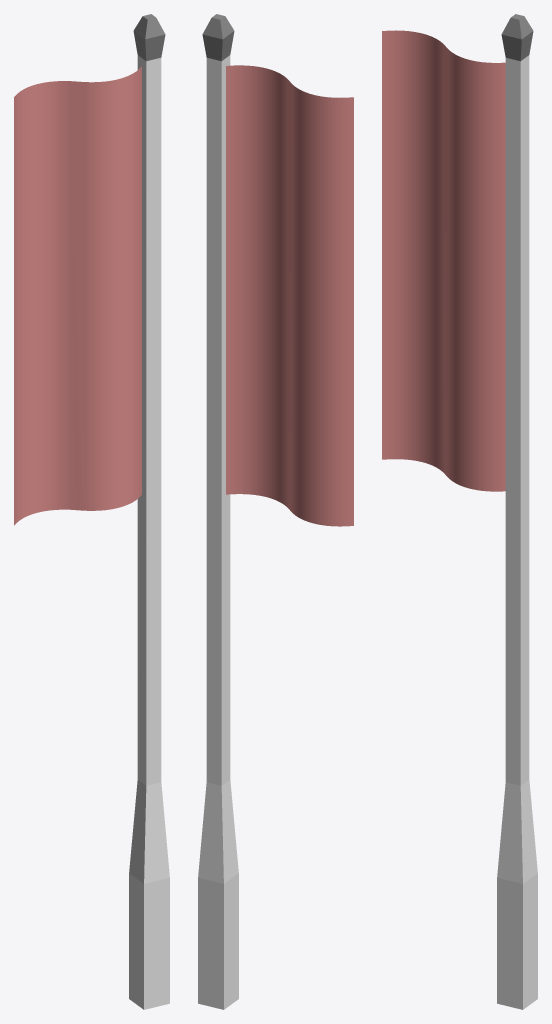
File: flagRed.glb
3 views of the same model, side by side, from view 1: azimuth 30°, elevation 25°; view 2: azimuth 150°, elevation 25°; view 3: azimuth 330°, elevation 25° (orthographic).
Visible parts, largest first — view 1: flagRed, Group; view 2: flagRed, Group; view 3: flagRed, Group.
Boxes of the visible parts, x1,y1,x2,y2 form: flagRed: (14, 66, 141, 525); Group: (129, 14, 169, 1009); flagRed: (226, 65, 353, 526); Group: (198, 14, 238, 1009); flagRed: (382, 30, 505, 491); Group: (497, 14, 537, 1009).
Size of the model in its own units: 0.1972 by 1.25 by 0.0352.
